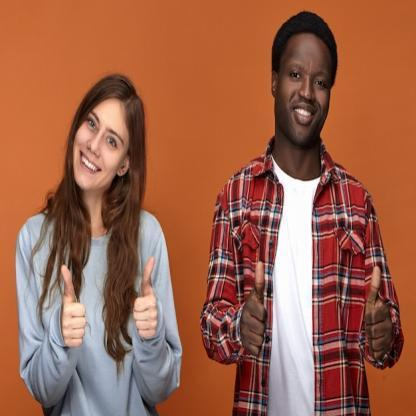thumb_up: (354, 262, 394, 363), (236, 259, 274, 358), (129, 252, 163, 344), (54, 262, 88, 350)
